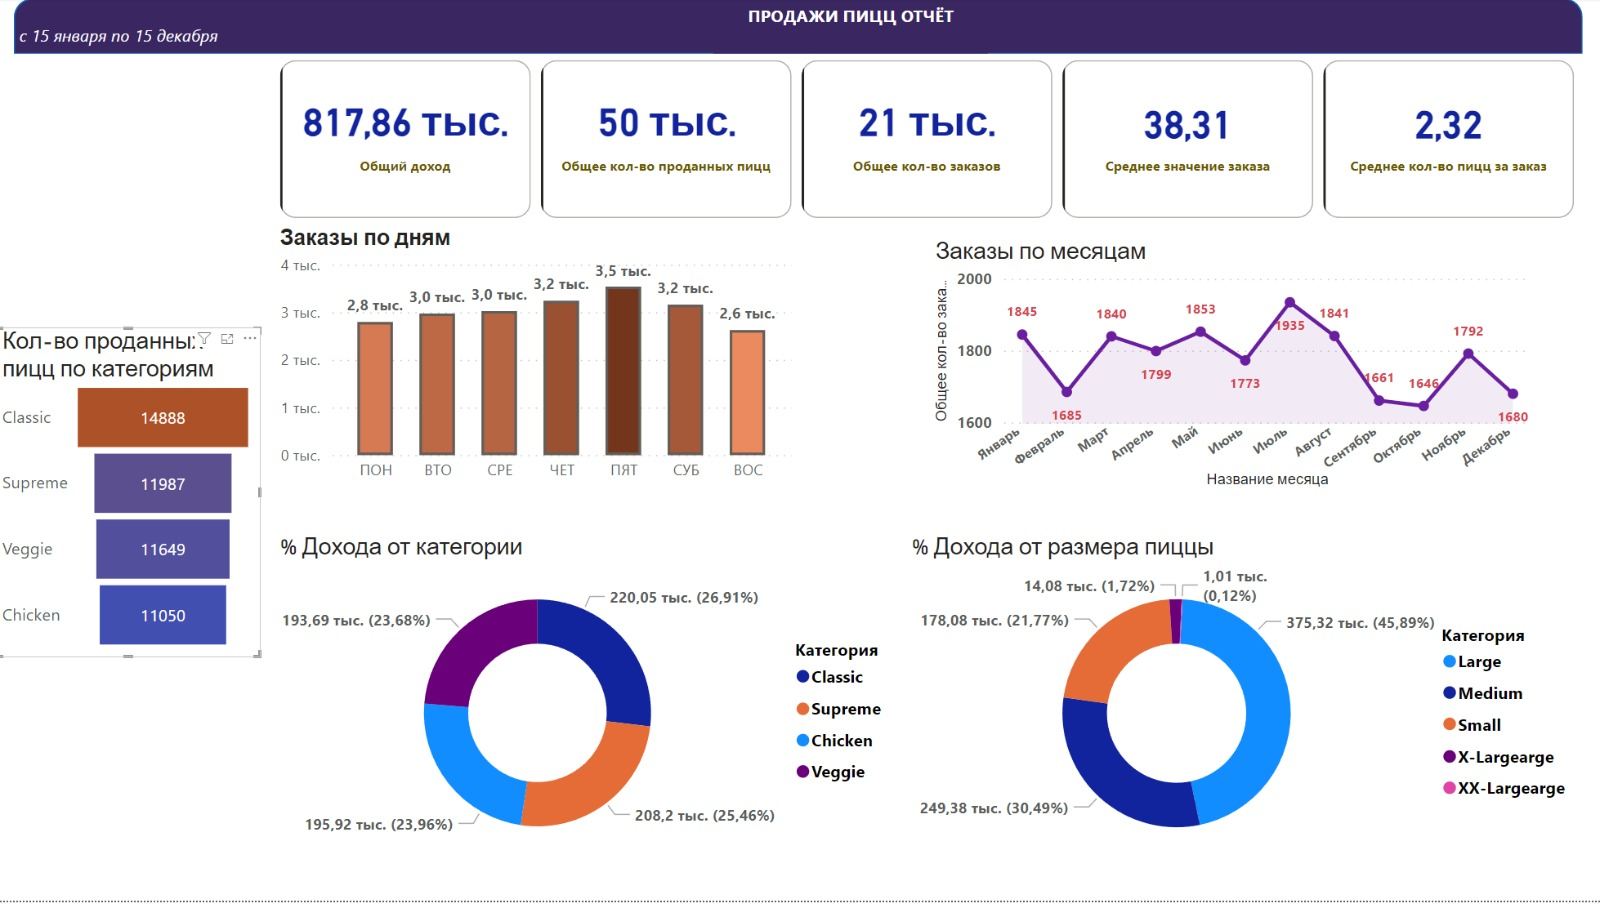

The page's visual inventory and layout, read from the dashboard file:
{"tool":"powerbi","page":{"name":"Страница 1","canvas":[1280,720],"ordinal":0},"visuals":[{"type":"cardVisual","fields":{"Data":["pizza_sales.Общий доход","pizza_sales.Общее кол-во проданных пицц","pizza_sales.Общее кол-во заказов","pizza_sales.Среднее значение заказа","pizza_sales.Среднее кол-во пицц за заказ"]},"box":[221.8,44.5,1043.8,136.1],"z":0},{"type":"shape","box":[14.4,0,1251.2,44.5],"z":1},{"type":"textbox","box":[571.9,0,219.2,44.5],"z":2},{"type":"textbox","box":[13.7,15.7,352.7,28.8],"z":3},{"type":"columnChart","title":"Заказы по дням","fields":{"Category":["pizza_sales.день заказа"],"Y":["pizza_sales.Общее кол-во заказов"]},"box":[221.8,180.6,418.2,214],"z":4},{"type":"areaChart","title":"Заказы по месяцам","fields":{"Y":["pizza_sales.Общее кол-во заказов"],"Category":["pizza_sales.Название месяца"]},"box":[744,191.1,484.9,203.5],"z":5},{"type":"donutChart","title":"% Дохода от категории","fields":{"Category":["pizza_sales.pizza_category"],"Y":["pizza_sales.Общий доход"]},"box":[221.6,426.9,509.7,267.9],"z":6},{"type":"donutChart","title":"% Дохода от размера пиццы","fields":{"Y":["pizza_sales.Общий доход"],"Category":["pizza_sales.pizza_size"]},"box":[725.1,426.7,540.5,268.3],"z":7},{"type":"funnel","title":"Кол-во проданных пицц по категориям","fields":{"Category":["pizza_sales.pizza_category"],"Y":["pizza_sales.Общее кол-во проданных пицц"]},"box":[0,262.6,211.2,263.3],"z":8}]}

Visuals, with their boxes in screenshot pixels (x1, y1, x2, y2), scaled from the page's 1280x720 canvas onto the 1600x908 screenshot:
cardVisual - pizza_sales.Общий доход x pizza_sales.Общее кол-во проданных пицц: box(277, 56, 1582, 228)
shape: box(18, 0, 1582, 56)
textbox: box(715, 0, 989, 56)
textbox: box(17, 20, 458, 56)
"Заказы по дням" columnChart: box(277, 228, 800, 498)
"Заказы по месяцам" areaChart: box(930, 241, 1536, 498)
"% Дохода от категории" donutChart: box(277, 538, 914, 876)
"% Дохода от размера пиццы" donutChart: box(906, 538, 1582, 876)
"Кол-во проданных пицц по категориям" funnel: box(0, 331, 264, 663)
